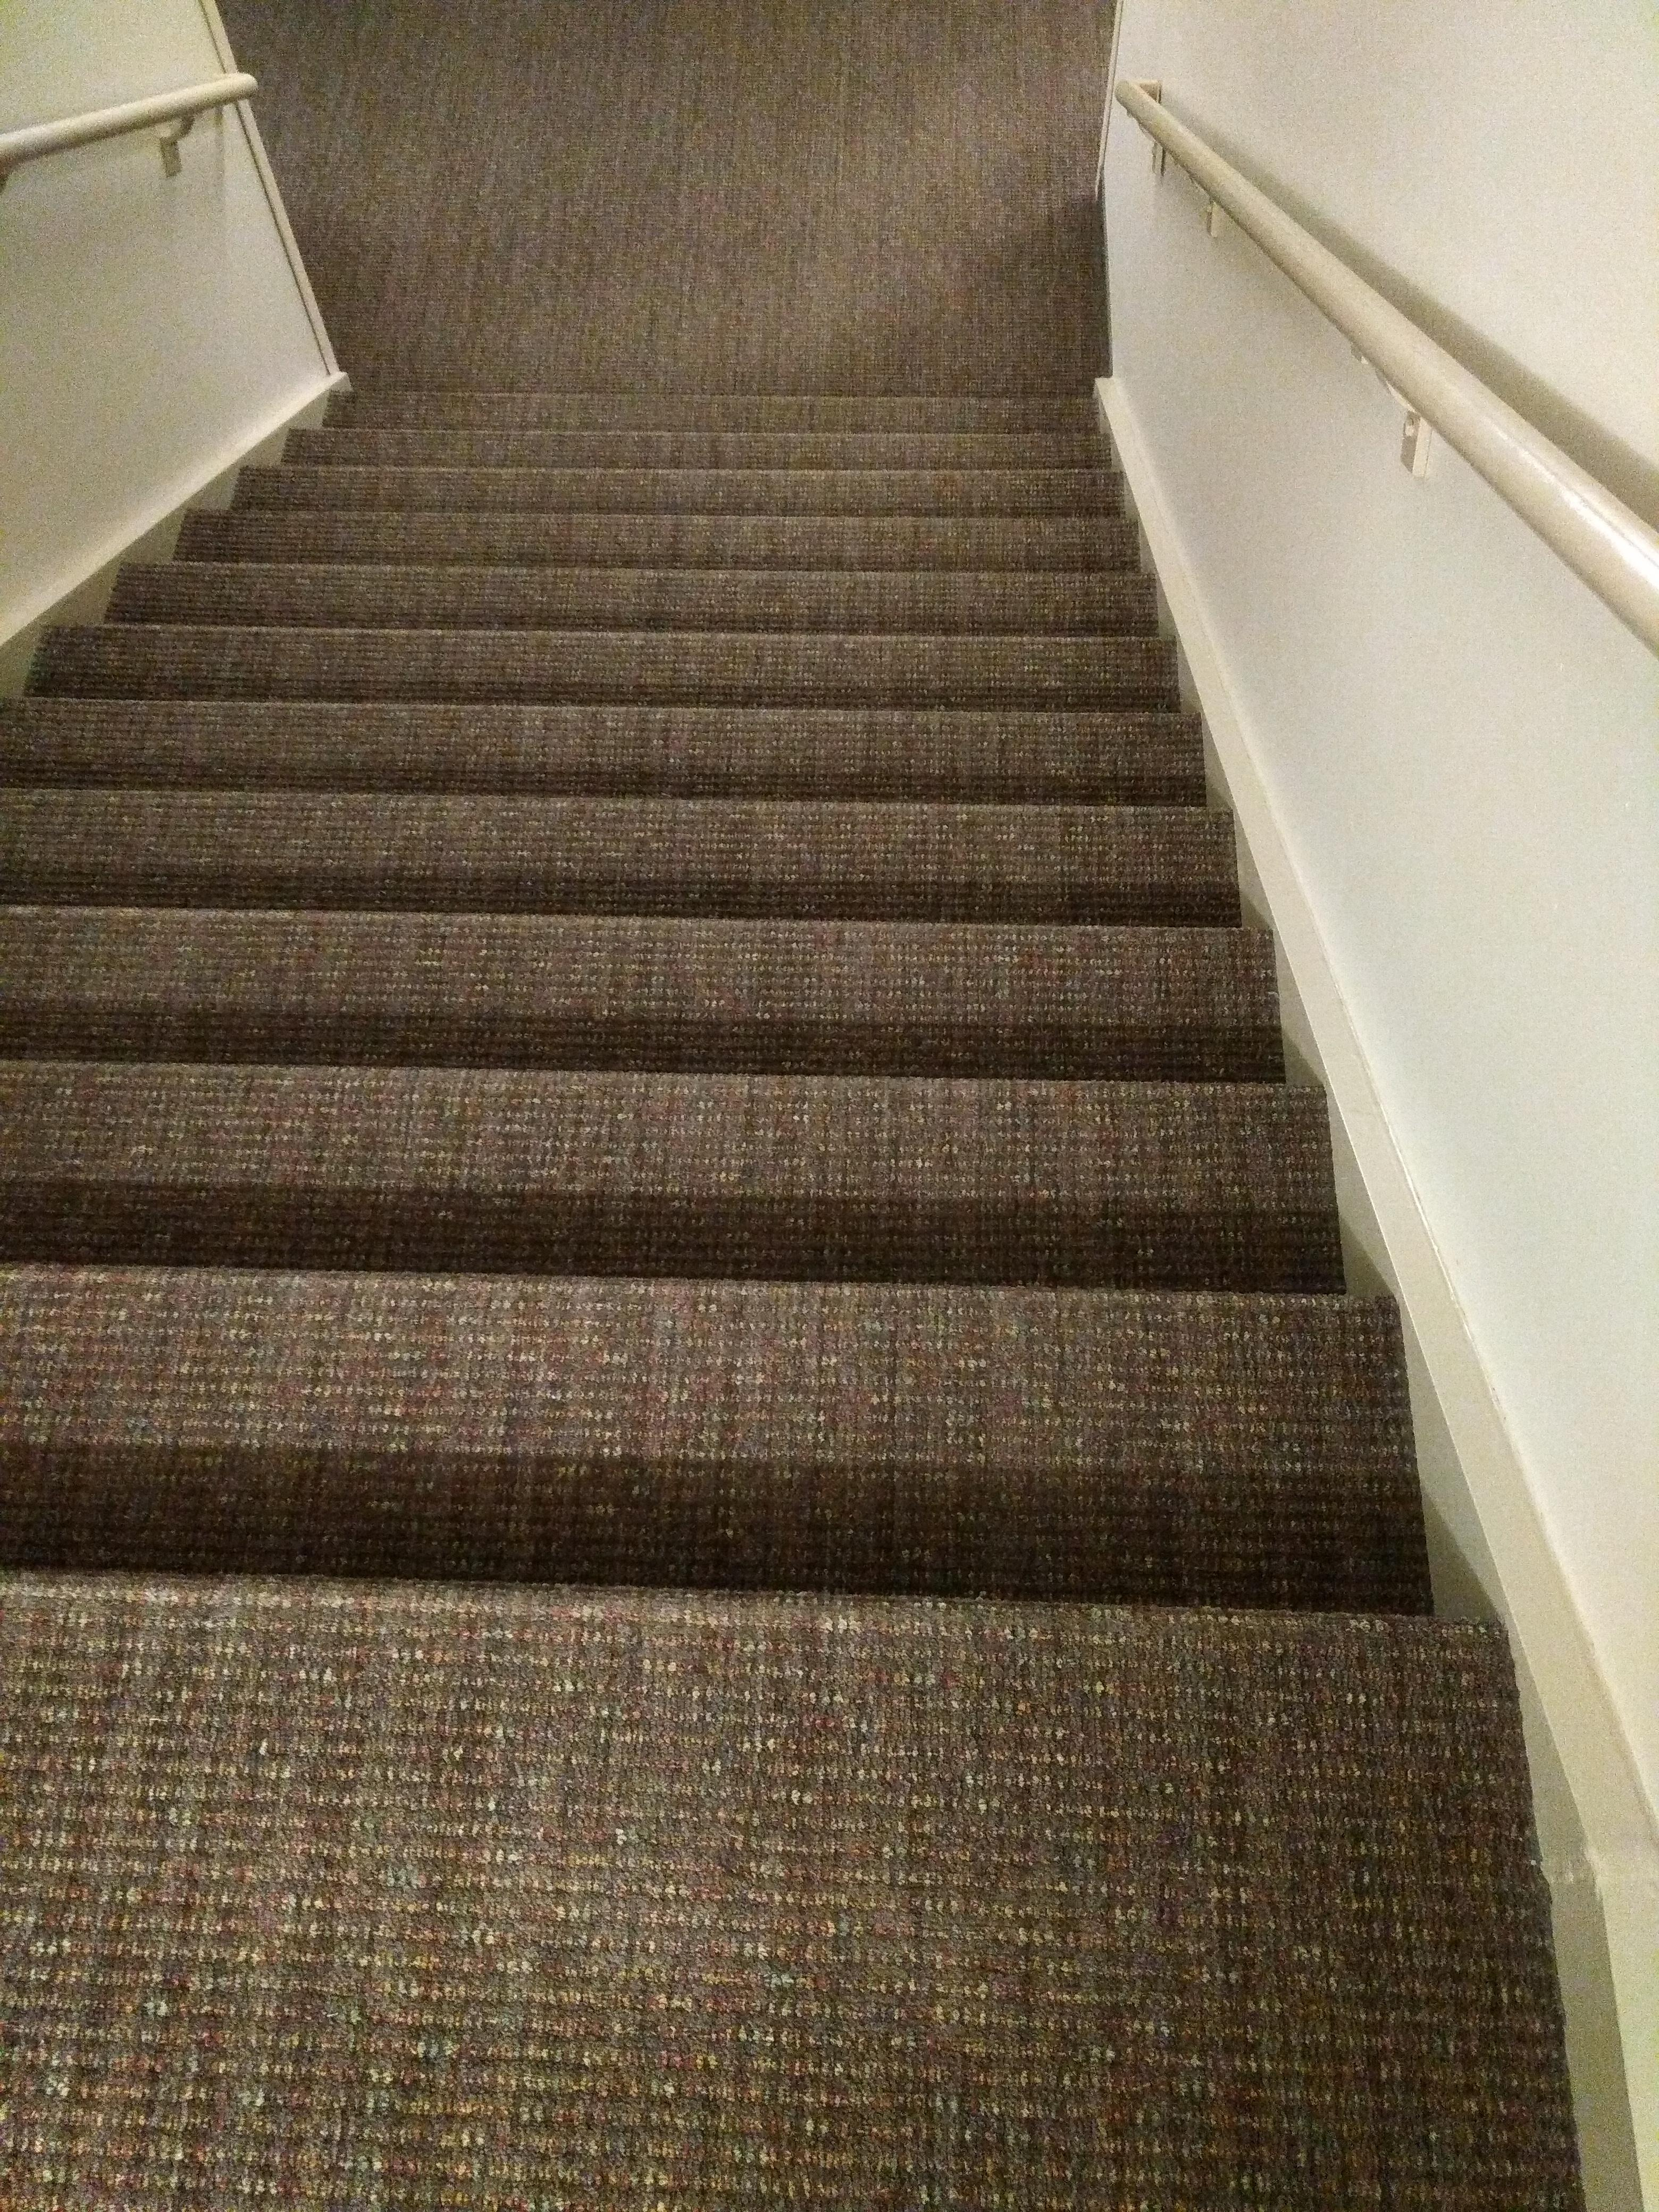stairs_down: (5, 366, 1549, 1822)
